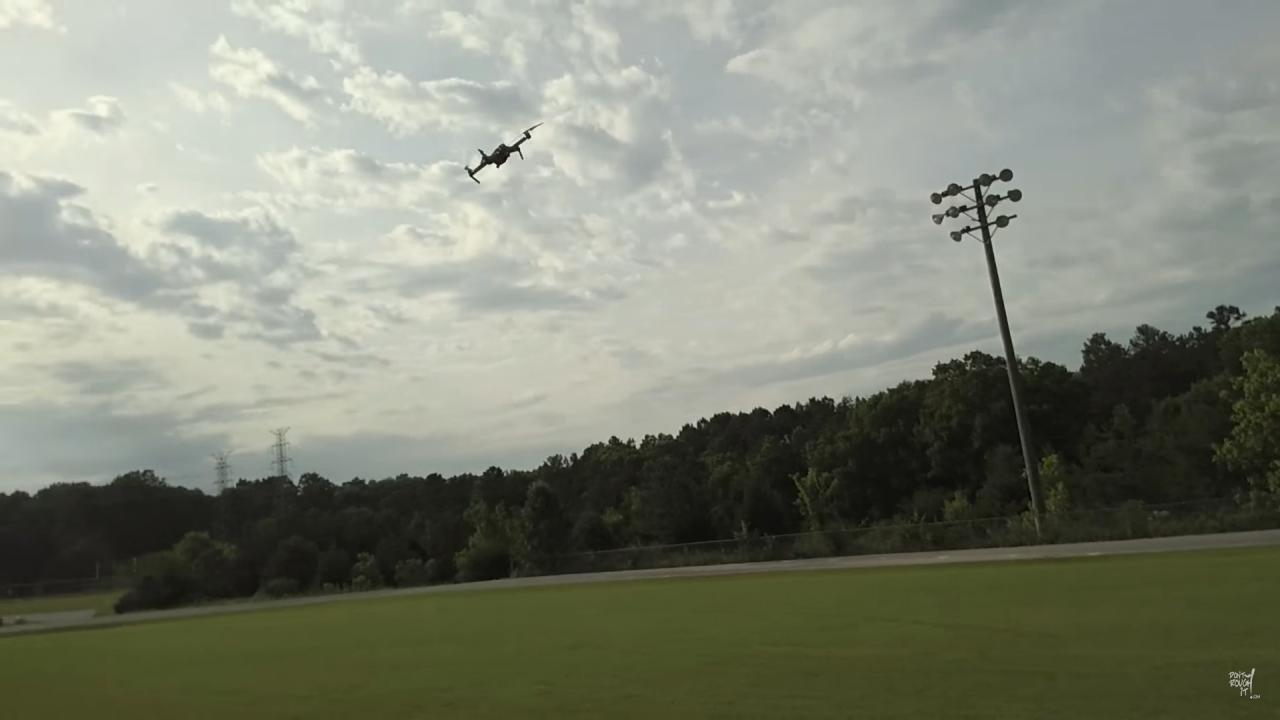Drone: (454, 115, 564, 194)
